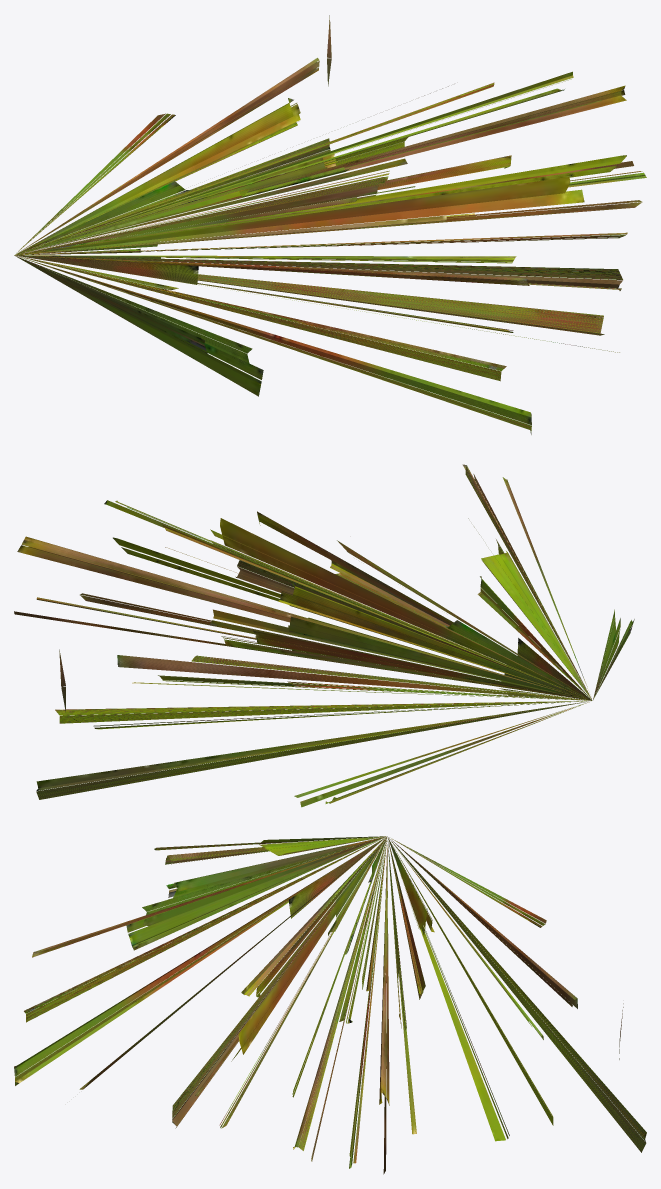
Rendered from nature_reeds_01.glb.
The picture shows the model from 3 angles, top to bottom: view 1: azimuth 30°, elevation 25°; view 2: azimuth 150°, elevation 25°; view 3: azimuth 270°, elevation 25°; orthographic projection. The views are drawn at different scales.
Parts seen in each view (by area): view 1: geometry_0; view 2: geometry_0; view 3: geometry_0.
Boxes of the visible parts, x1=… form: geometry_0: x1=14, y1=15, x2=646, y2=434; geometry_0: x1=14, y1=464, x2=634, y2=807; geometry_0: x1=14, y1=836, x2=646, y2=1174.
Bounding box in the file's own units: 0.8594 × 0.2954 × 0.8146.
Materials: 1 (1 with a texture image).
